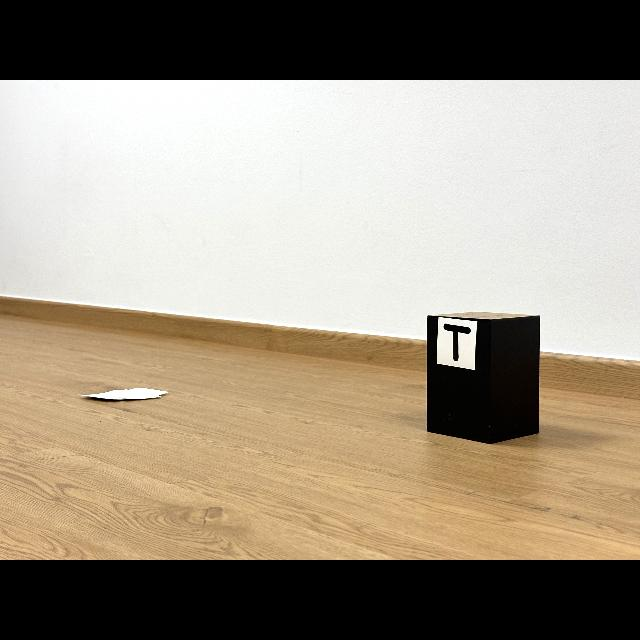T: (444, 324, 471, 361)
